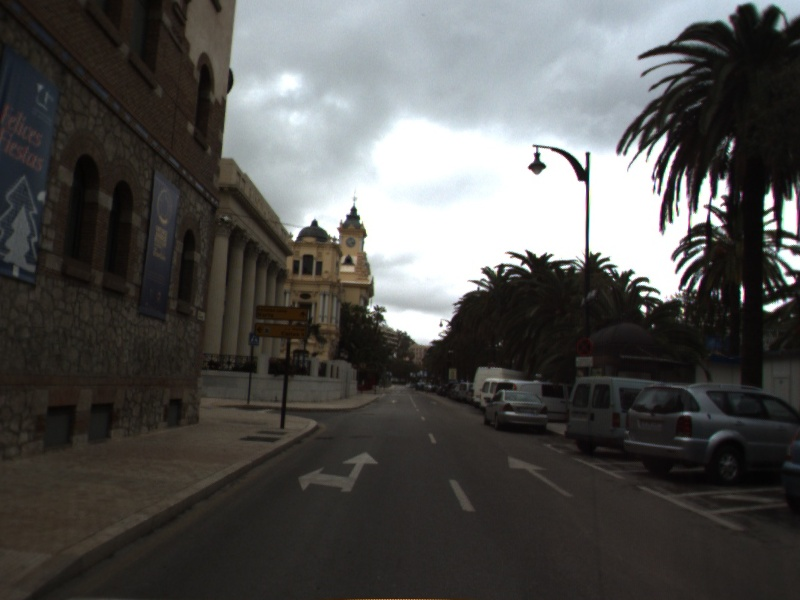STRAIGHT: (505, 453, 577, 499)
STRAIGHT_LEFT: (294, 450, 382, 494)
